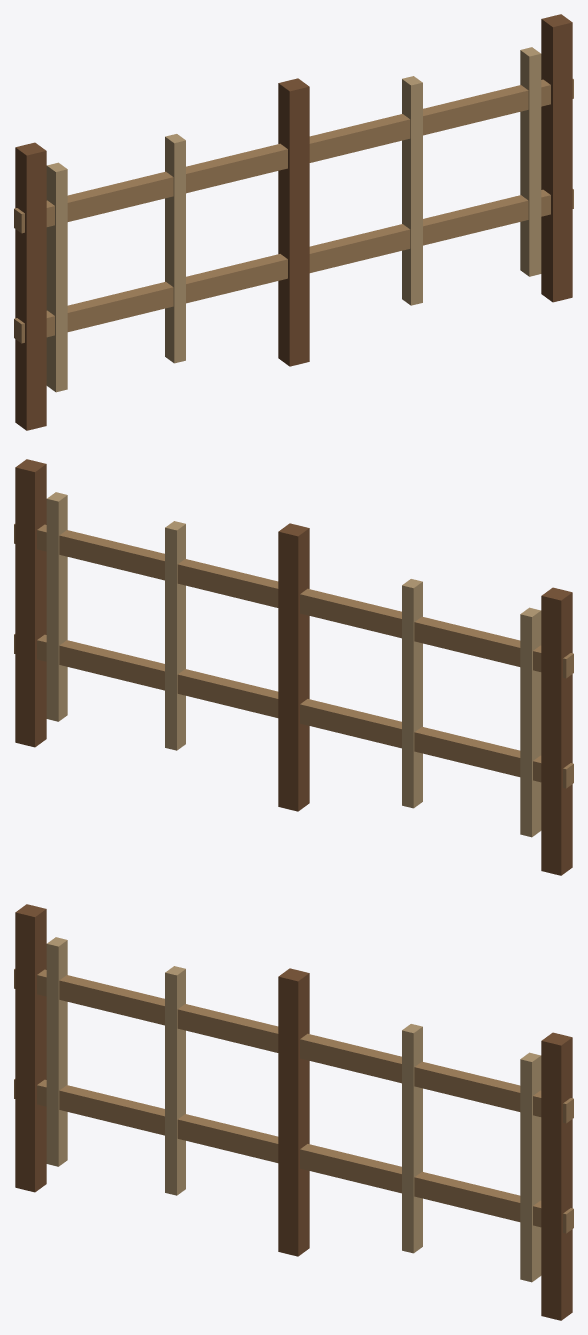
Rendered from fence-normal.glb.
3 renders of one model, top to bottom at view 1: azimuth 30°, elevation 25°; view 2: azimuth 150°, elevation 25°; view 3: azimuth 330°, elevation 25°, orthographic.
Parts seen in each view (by area): view 1: fence; view 2: fence; view 3: fence.
Part boxes in pixels (box(x1,y1,x2,y2)): fence: box(14, 14, 573, 430); fence: box(14, 459, 573, 875); fence: box(14, 904, 573, 1320).
Size of the model in its own units: 2.1 by 1 by 0.075.
